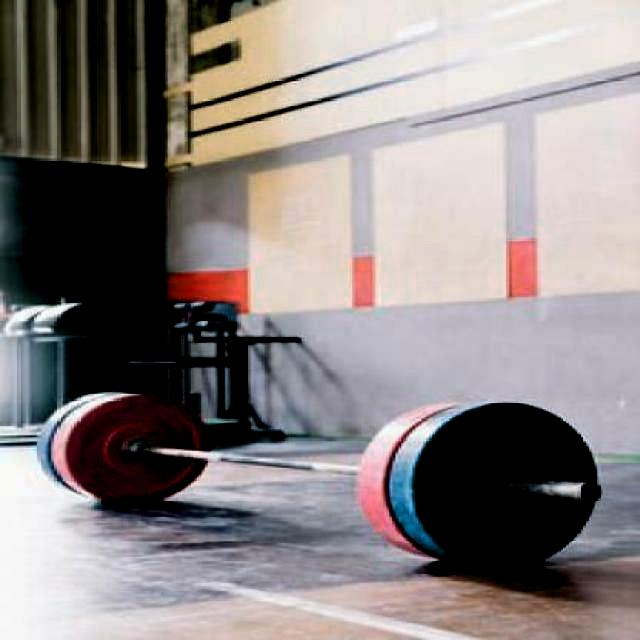barbell: (400, 394, 605, 577)
